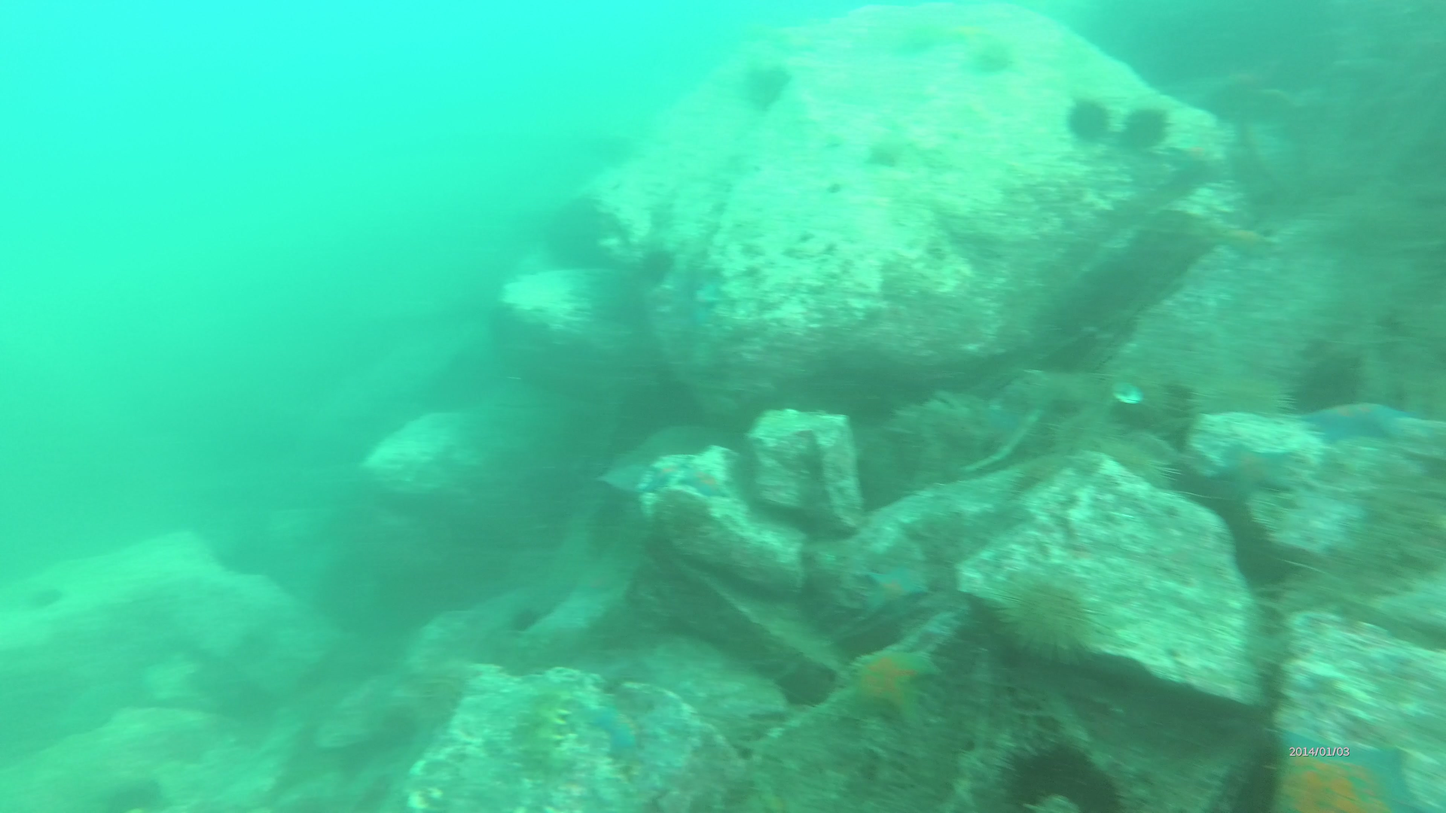echinus: (510, 688, 576, 773), (414, 663, 464, 727)
holothurian: (1264, 719, 1445, 813), (845, 645, 937, 728), (576, 692, 645, 762)
starfish: (993, 728, 1128, 813), (991, 580, 1104, 670), (1195, 368, 1297, 426), (1112, 93, 1178, 162), (1059, 87, 1118, 154)
